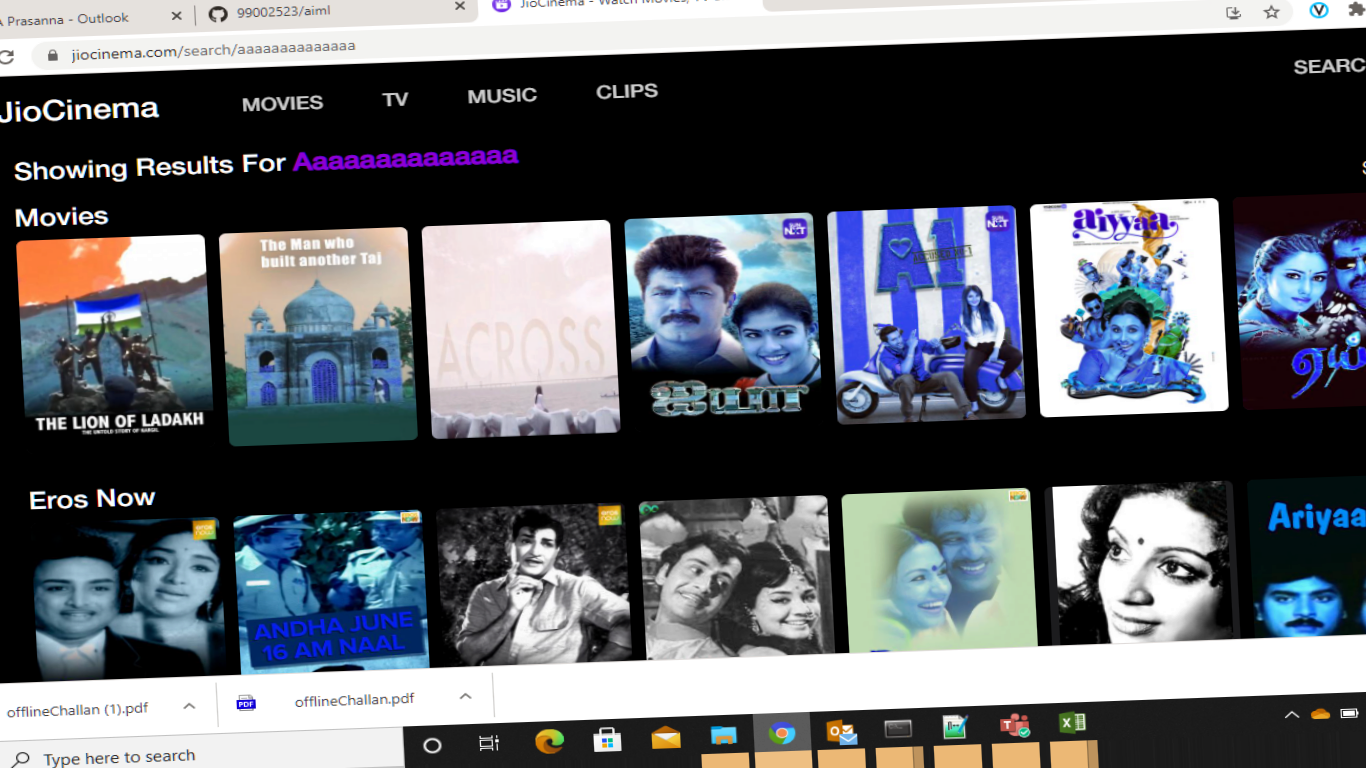noresultsfound: (1, 146, 540, 179)
searchicon: (1282, 48, 1366, 80)
